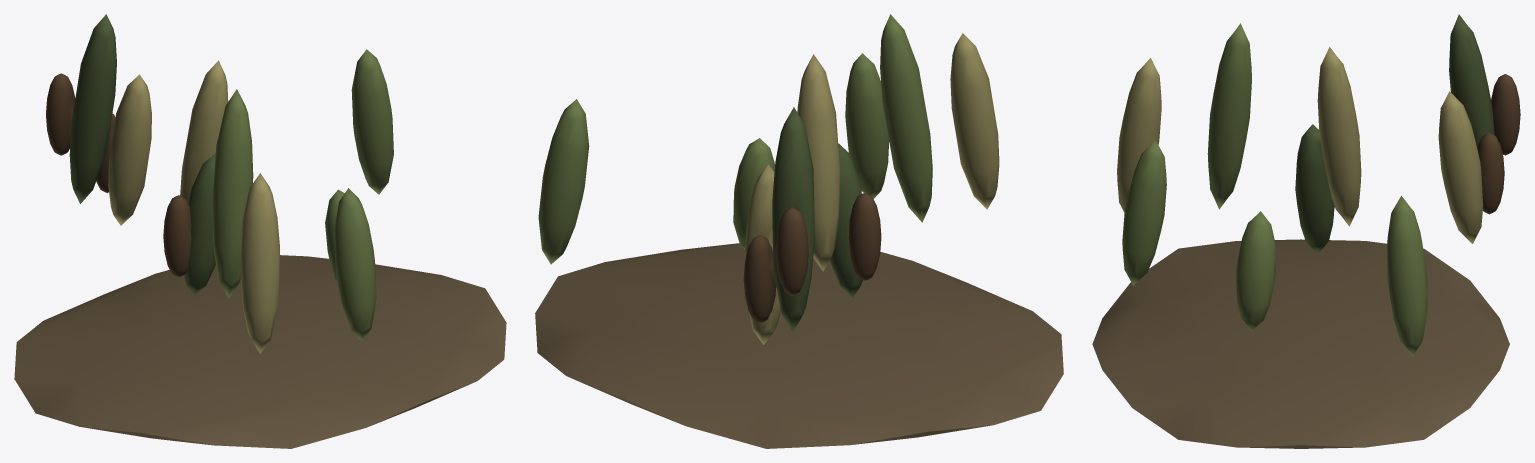
Rendered from reed_clump_b.glb.
The picture shows the model from 3 angles, left to right: view 1: azimuth 30°, elevation 25°; view 2: azimuth 150°, elevation 25°; view 3: azimuth 270°, elevation 25°; orthographic projection. The views are drawn at different scales.
Parts seen in each view (by area): view 1: Surface; view 2: Surface; view 3: Surface.
Boxes of the visible parts, left/top/right/bottom form: Surface: left=14, top=14, right=506, bottom=448; Surface: left=535, top=14, right=1063, bottom=448; Surface: left=1092, top=14, right=1520, bottom=448.
Bounding box in the file's own units: 2.45 × 1.7 × 2.04.
